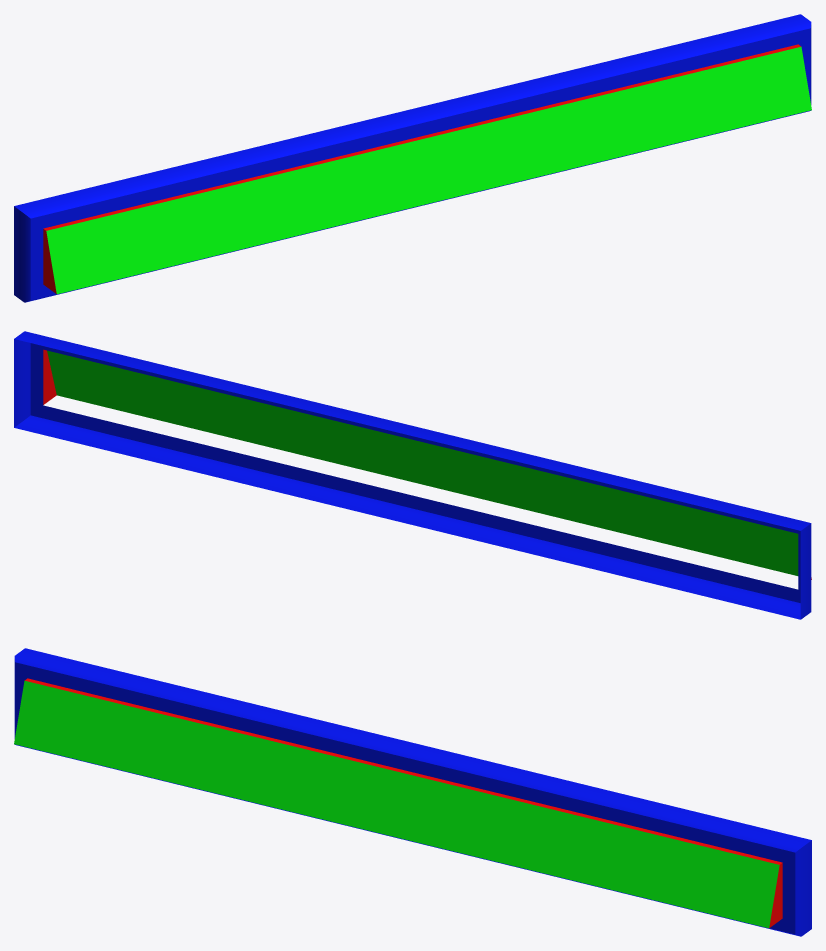
File: Door_Post.fbx
The picture shows the model from 3 angles, top to bottom: view 1: azimuth 30°, elevation 25°; view 2: azimuth 150°, elevation 25°; view 3: azimuth 330°, elevation 25°; orthographic projection.
Parts seen in each view (by area): view 1: Door_Post; view 2: Door_Post; view 3: Door_Post.
Part boxes in pixels (left/top/right/bottom): Door_Post: left=14, top=14, right=811, bottom=302; Door_Post: left=14, top=331, right=811, bottom=619; Door_Post: left=14, top=648, right=811, bottom=936.
Bounding box in the file's own units: 49.76 × 5.37 × 2.96.
